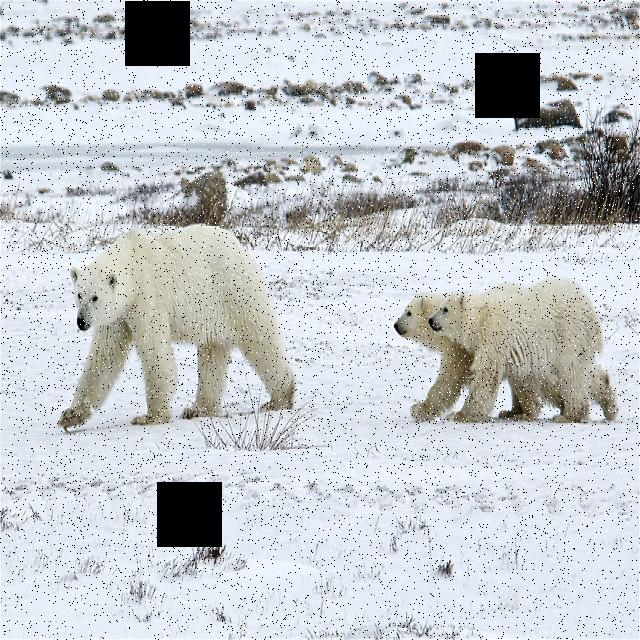Bear: (52, 230, 301, 415), (430, 272, 621, 422), (393, 281, 521, 418)
